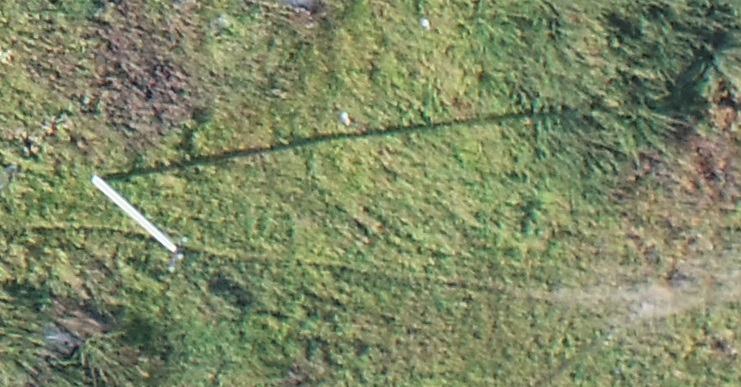opora: (90, 156, 191, 275)
